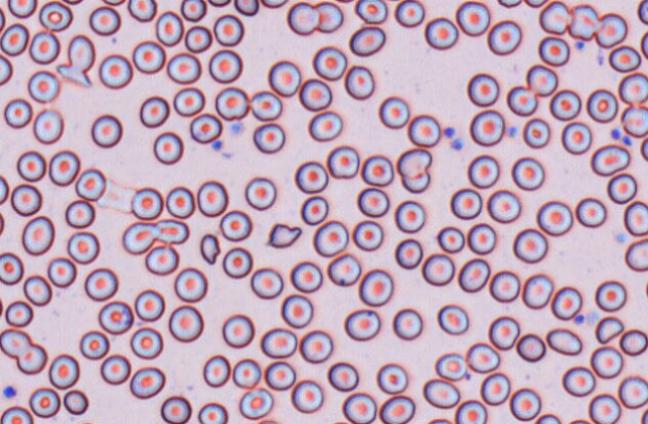PLT: (1, 384, 17, 401), (451, 137, 466, 152), (443, 124, 459, 138), (210, 138, 224, 152), (610, 125, 622, 141), (621, 135, 634, 148), (572, 313, 586, 325), (574, 39, 587, 50)
RBC: (312, 219, 349, 257), (469, 109, 505, 146), (536, 200, 573, 236), (358, 268, 393, 306), (168, 304, 203, 342), (21, 215, 54, 255), (512, 227, 548, 263), (590, 144, 630, 176), (487, 19, 522, 55), (455, 0, 490, 36), (267, 59, 301, 96), (312, 45, 347, 80), (98, 53, 132, 89), (173, 266, 207, 302), (326, 252, 361, 286), (486, 189, 521, 223), (214, 86, 249, 120), (98, 300, 133, 334), (122, 221, 158, 254), (594, 12, 627, 48), (344, 308, 380, 341), (129, 366, 165, 399), (567, 3, 599, 40), (196, 180, 228, 217), (48, 149, 80, 186), (299, 329, 333, 363), (208, 49, 242, 83), (407, 113, 441, 147), (84, 267, 118, 301), (221, 313, 254, 348), (280, 293, 313, 328), (521, 273, 553, 309), (260, 327, 297, 358), (422, 378, 460, 408), (286, 1, 319, 35), (538, 0, 571, 34), (421, 253, 455, 286), (424, 16, 458, 49), (290, 379, 323, 413), (298, 78, 332, 111), (294, 160, 328, 193), (289, 260, 323, 293), (466, 72, 499, 106), (511, 156, 544, 190), (326, 145, 359, 179), (238, 387, 273, 419), (166, 52, 201, 84), (458, 257, 490, 292), (90, 113, 122, 148), (586, 88, 618, 123), (48, 353, 79, 389), (349, 25, 385, 56), (32, 108, 63, 144), (132, 40, 165, 73), (130, 187, 163, 220), (590, 345, 623, 378), (66, 231, 99, 264), (130, 326, 163, 359), (28, 30, 60, 64), (561, 365, 595, 397), (509, 387, 541, 421), (360, 154, 394, 186), (467, 154, 499, 188), (244, 176, 276, 210), (341, 392, 376, 423), (465, 342, 500, 373), (488, 315, 519, 350), (551, 285, 582, 320), (378, 394, 415, 423), (67, 34, 95, 72), (525, 64, 558, 96), (27, 70, 59, 103), (250, 267, 283, 299), (219, 209, 252, 241), (10, 183, 42, 216), (436, 303, 469, 335), (449, 187, 482, 219), (594, 279, 626, 312), (144, 244, 178, 275), (38, 0, 72, 31), (308, 110, 342, 141), (394, 199, 425, 233), (344, 64, 374, 99), (155, 10, 184, 46), (376, 362, 408, 394), (488, 270, 520, 302), (74, 168, 106, 200), (549, 88, 581, 120), (479, 372, 510, 405), (189, 112, 222, 143), (252, 122, 285, 153), (213, 13, 244, 46), (134, 288, 165, 321), (561, 121, 592, 154), (378, 95, 409, 128), (546, 327, 582, 355), (396, 148, 433, 175), (28, 387, 60, 418), (506, 85, 538, 116), (100, 353, 131, 385), (352, 219, 383, 251), (606, 172, 637, 204), (250, 90, 282, 121), (588, 393, 621, 423), (356, 187, 389, 217), (172, 86, 205, 116), (165, 185, 195, 218), (153, 131, 183, 164), (392, 307, 422, 340), (0, 22, 29, 56), (618, 375, 647, 409), (16, 343, 47, 374), (0, 327, 31, 358), (575, 196, 606, 227), (222, 246, 252, 278), (618, 72, 648, 104), (327, 361, 359, 391), (88, 5, 120, 35), (466, 222, 496, 254), (139, 95, 169, 127), (313, 1, 343, 32), (264, 360, 295, 390), (538, 36, 569, 66), (16, 150, 46, 181), (202, 354, 230, 387), (623, 200, 648, 236), (515, 333, 546, 362), (3, 97, 32, 128), (64, 199, 95, 228), (394, 238, 423, 269), (620, 105, 648, 137), (23, 274, 51, 306), (434, 352, 466, 380), (608, 45, 641, 72), (155, 218, 189, 244), (47, 257, 76, 287), (79, 330, 109, 359), (300, 195, 329, 225), (232, 358, 261, 388), (160, 395, 191, 423), (522, 117, 550, 148), (4, 299, 33, 327), (436, 225, 465, 253), (619, 328, 648, 356), (394, 0, 424, 27), (624, 238, 648, 271), (454, 399, 487, 423), (184, 25, 212, 53), (0, 251, 23, 285), (354, 0, 387, 23), (197, 402, 228, 423), (63, 389, 88, 415), (127, 0, 156, 22), (0, 405, 33, 423), (180, 0, 206, 21), (7, 0, 37, 18), (233, 0, 259, 16), (0, 53, 12, 86), (0, 174, 9, 204), (534, 413, 561, 423), (637, 0, 648, 24), (640, 30, 648, 59), (260, 0, 288, 8), (640, 135, 648, 161), (496, 0, 521, 8), (523, 0, 548, 7), (207, 0, 231, 7), (426, 417, 452, 423), (100, 0, 126, 6), (0, 5, 5, 31), (0, 210, 5, 236), (568, 418, 591, 423), (61, 0, 84, 5), (256, 418, 278, 423), (640, 408, 647, 423), (74, 420, 99, 424), (329, 420, 350, 424), (0, 294, 3, 318), (645, 277, 648, 301), (334, 0, 355, 3)
Schistocyte: (266, 222, 304, 251), (55, 63, 94, 88), (596, 315, 625, 345), (200, 233, 221, 264), (400, 173, 431, 194)
